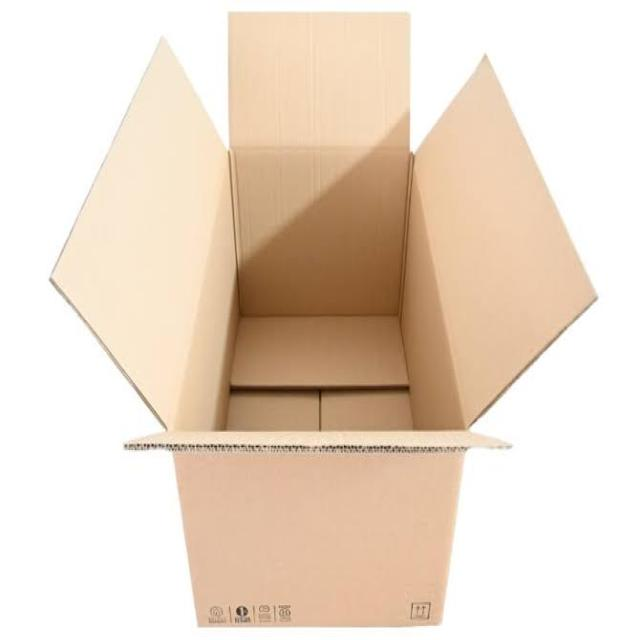cardboard: (55, 3, 602, 640)
